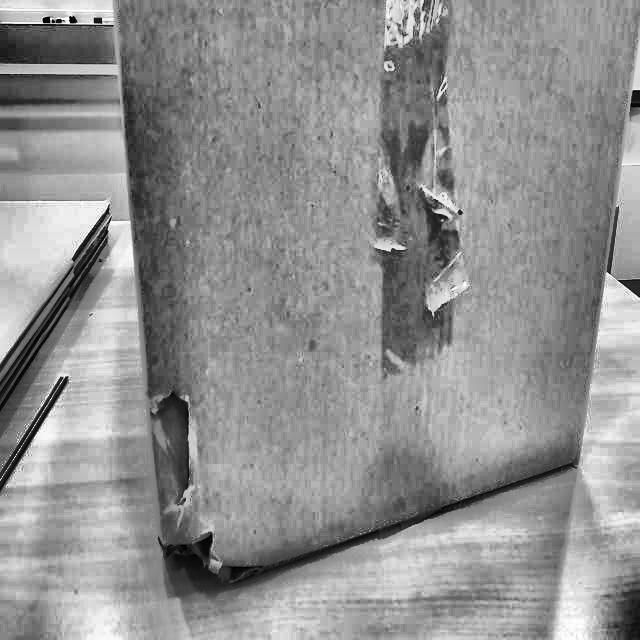box: (104, 0, 639, 597)
hole: (149, 385, 223, 583)
